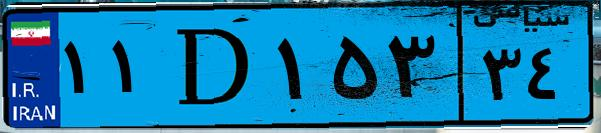1: (270, 28, 330, 110), (57, 26, 110, 100), (110, 28, 158, 98)
3: (385, 28, 445, 110), (475, 38, 525, 113)
4: (525, 38, 570, 115)
5: (330, 28, 385, 110)
D: (158, 12, 270, 120)
